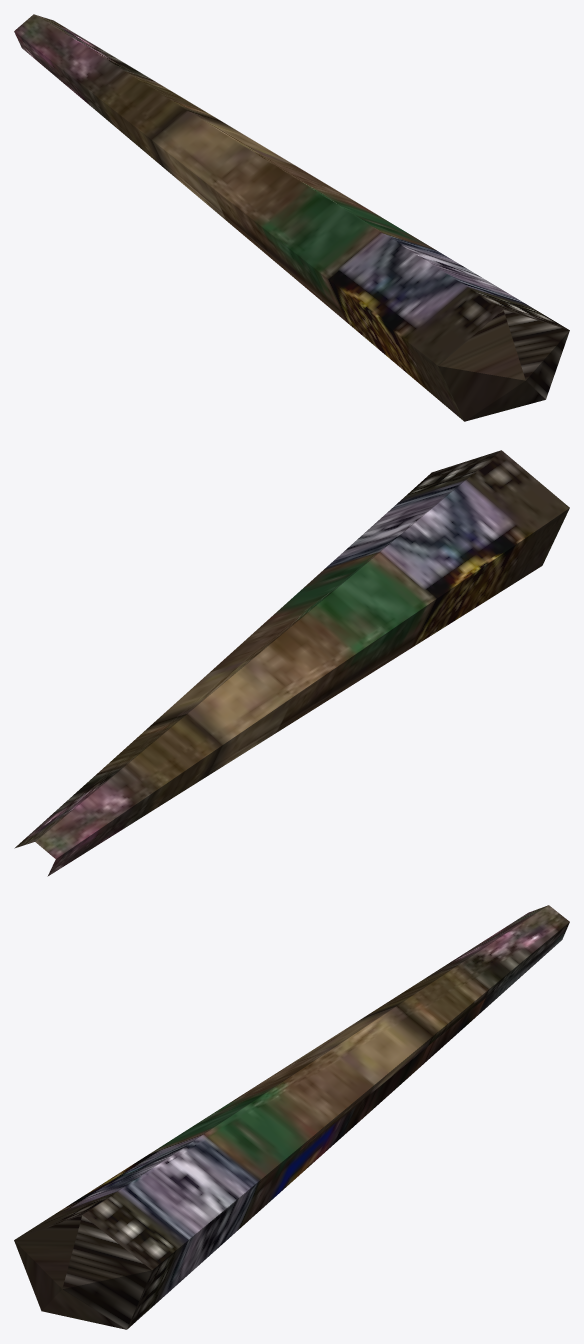
The model's file is FAJA2.glb.
The picture shows the model from 3 angles, top to bottom: view 1: azimuth 30°, elevation 25°; view 2: azimuth 150°, elevation 25°; view 3: azimuth 330°, elevation 25°; orthographic projection. The views are drawn at different scales.
Visible parts, largest first — view 1: FAJA2; view 2: FAJA2; view 3: FAJA2.
Boxes of the visible parts, box(x1,y1,x2,y2) form: FAJA2: box(14, 14, 569, 421); FAJA2: box(14, 450, 569, 876); FAJA2: box(14, 905, 569, 1329).
Size of the model in its own units: 0.0478 by 0.0352 by 0.3002.
1 material, 1 textured.
